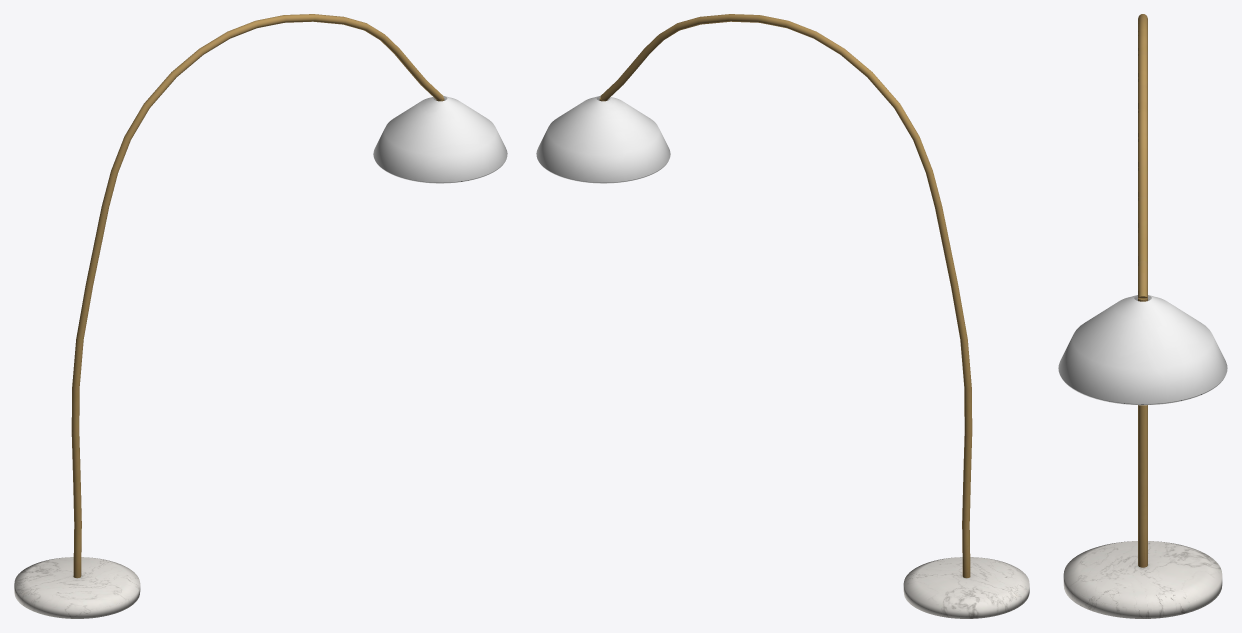
File: arc-marble.glb
3 views of the same model, side by side, from view 1: azimuth 30°, elevation 25°; view 2: azimuth 150°, elevation 25°; view 3: azimuth 270°, elevation 25° (orthographic). The views are drawn at different scales.
Visible parts, largest first — view 1: paint_primary_shade, brass, marble_base; view 2: paint_primary_shade, brass, marble_base; view 3: paint_primary_shade, marble_base, brass.
Boxes of the visible parts, x1,y1,x2,y2 form: paint_primary_shade: (373, 96, 507, 183); brass: (71, 14, 444, 578); marble_base: (14, 557, 140, 618); paint_primary_shade: (536, 95, 670, 183); brass: (599, 14, 972, 578); marble_base: (903, 557, 1029, 618); paint_primary_shade: (1058, 295, 1227, 405); marble_base: (1063, 541, 1222, 618); brass: (1138, 14, 1147, 567).
Bounding box in the file's own units: 1.97 × 2.08 × 0.48.
Materials: 4 (3 with a texture image).
